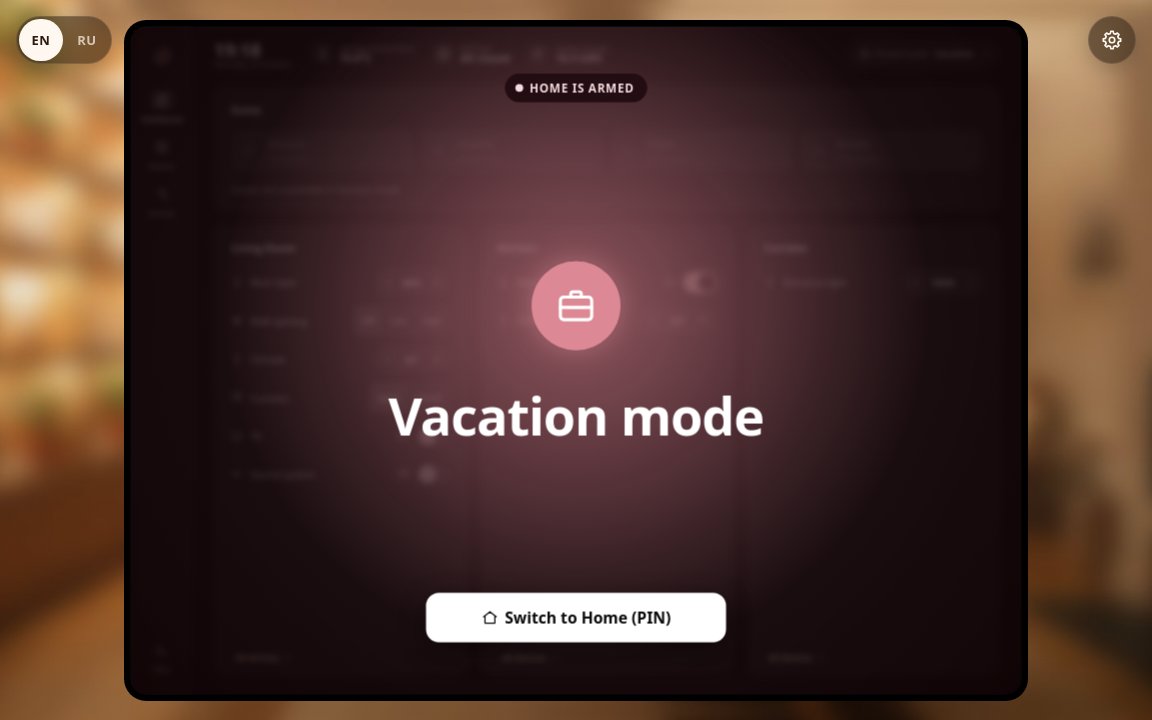
Test: главная страница › дом под охраной: окно поверх интерфейса, нажать можно только его кнопку
Expected: the dialog "Vacation mode" shows "Home is armed", [530, 80, 634, 95]
Click the button "Switch to Home (PIN)" at (576, 617), box [426, 592, 726, 642]
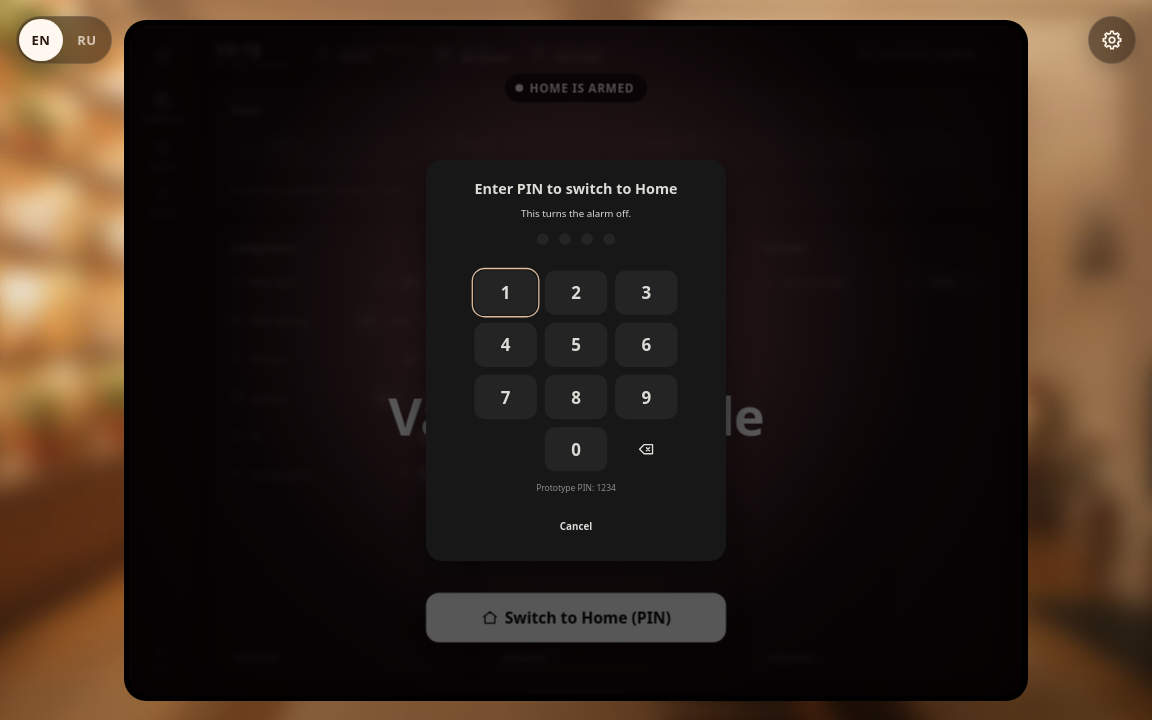
Result: the dialog "Enter PIN to switch to Home" is shown at [426, 159, 726, 561]
